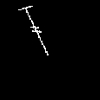treble_crochet: (22, 6, 47, 54)
